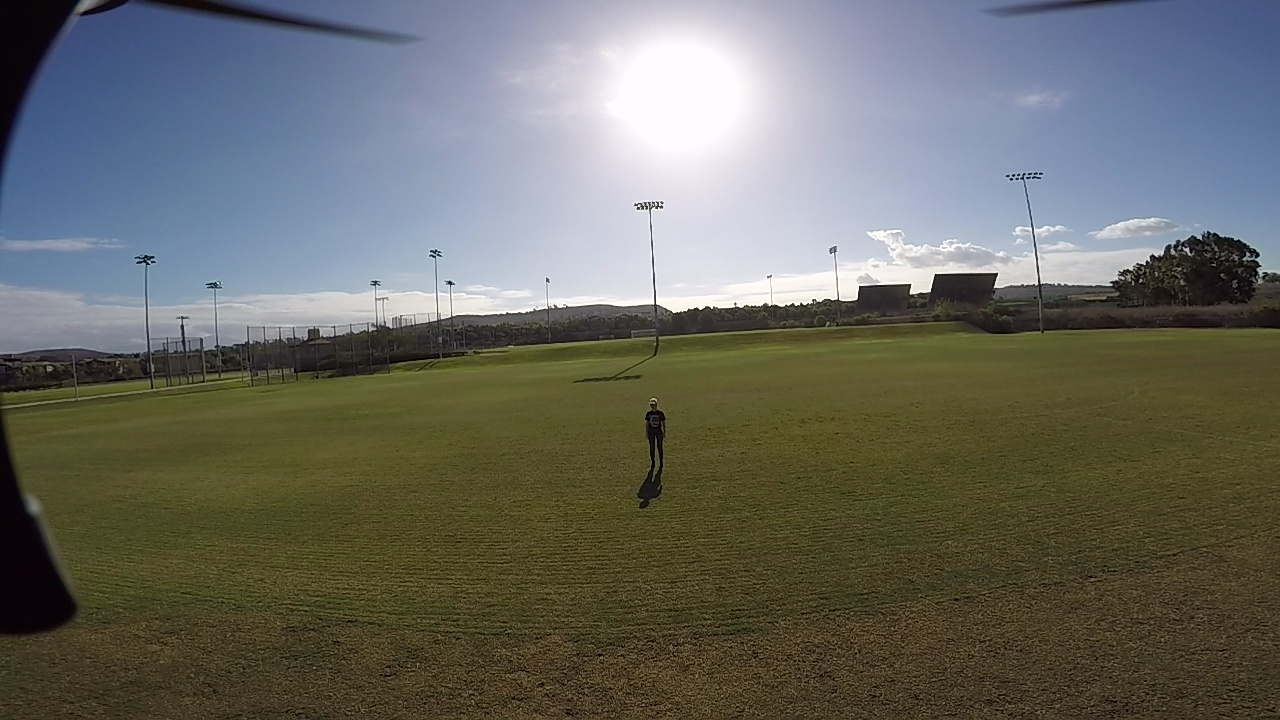person: (635, 391, 664, 501)
